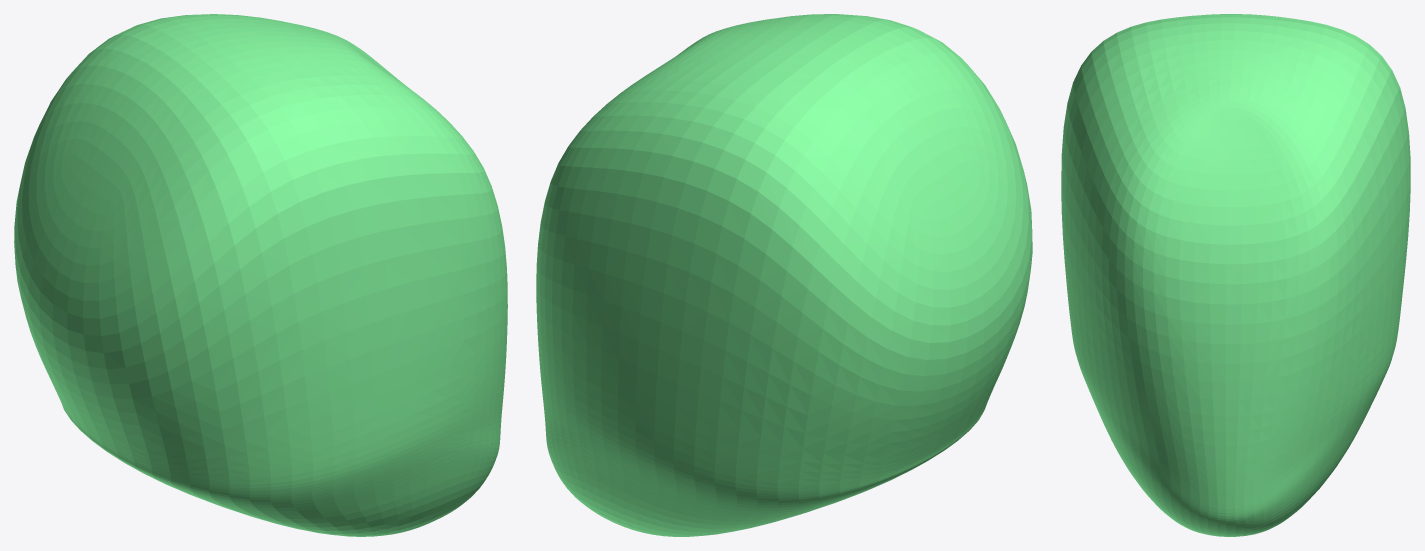
Rendered from ven head.fbx.
3 views of the same model, side by side, from view 1: azimuth 30°, elevation 25°; view 2: azimuth 150°, elevation 25°; view 3: azimuth 270°, elevation 25° (orthographic). The views are drawn at different scales.
Parts seen in each view (by area): view 1: head; view 2: head; view 3: head.
Boxes of the visible parts, <box> form: head: <box>14,14,507,536</box>; head: <box>536,14,1032,536</box>; head: <box>1061,14,1410,536</box>.
Bounding box in the file's own units: 52.64 × 58.76 × 43.37.
Materials: 2 (1 with a texture image).
